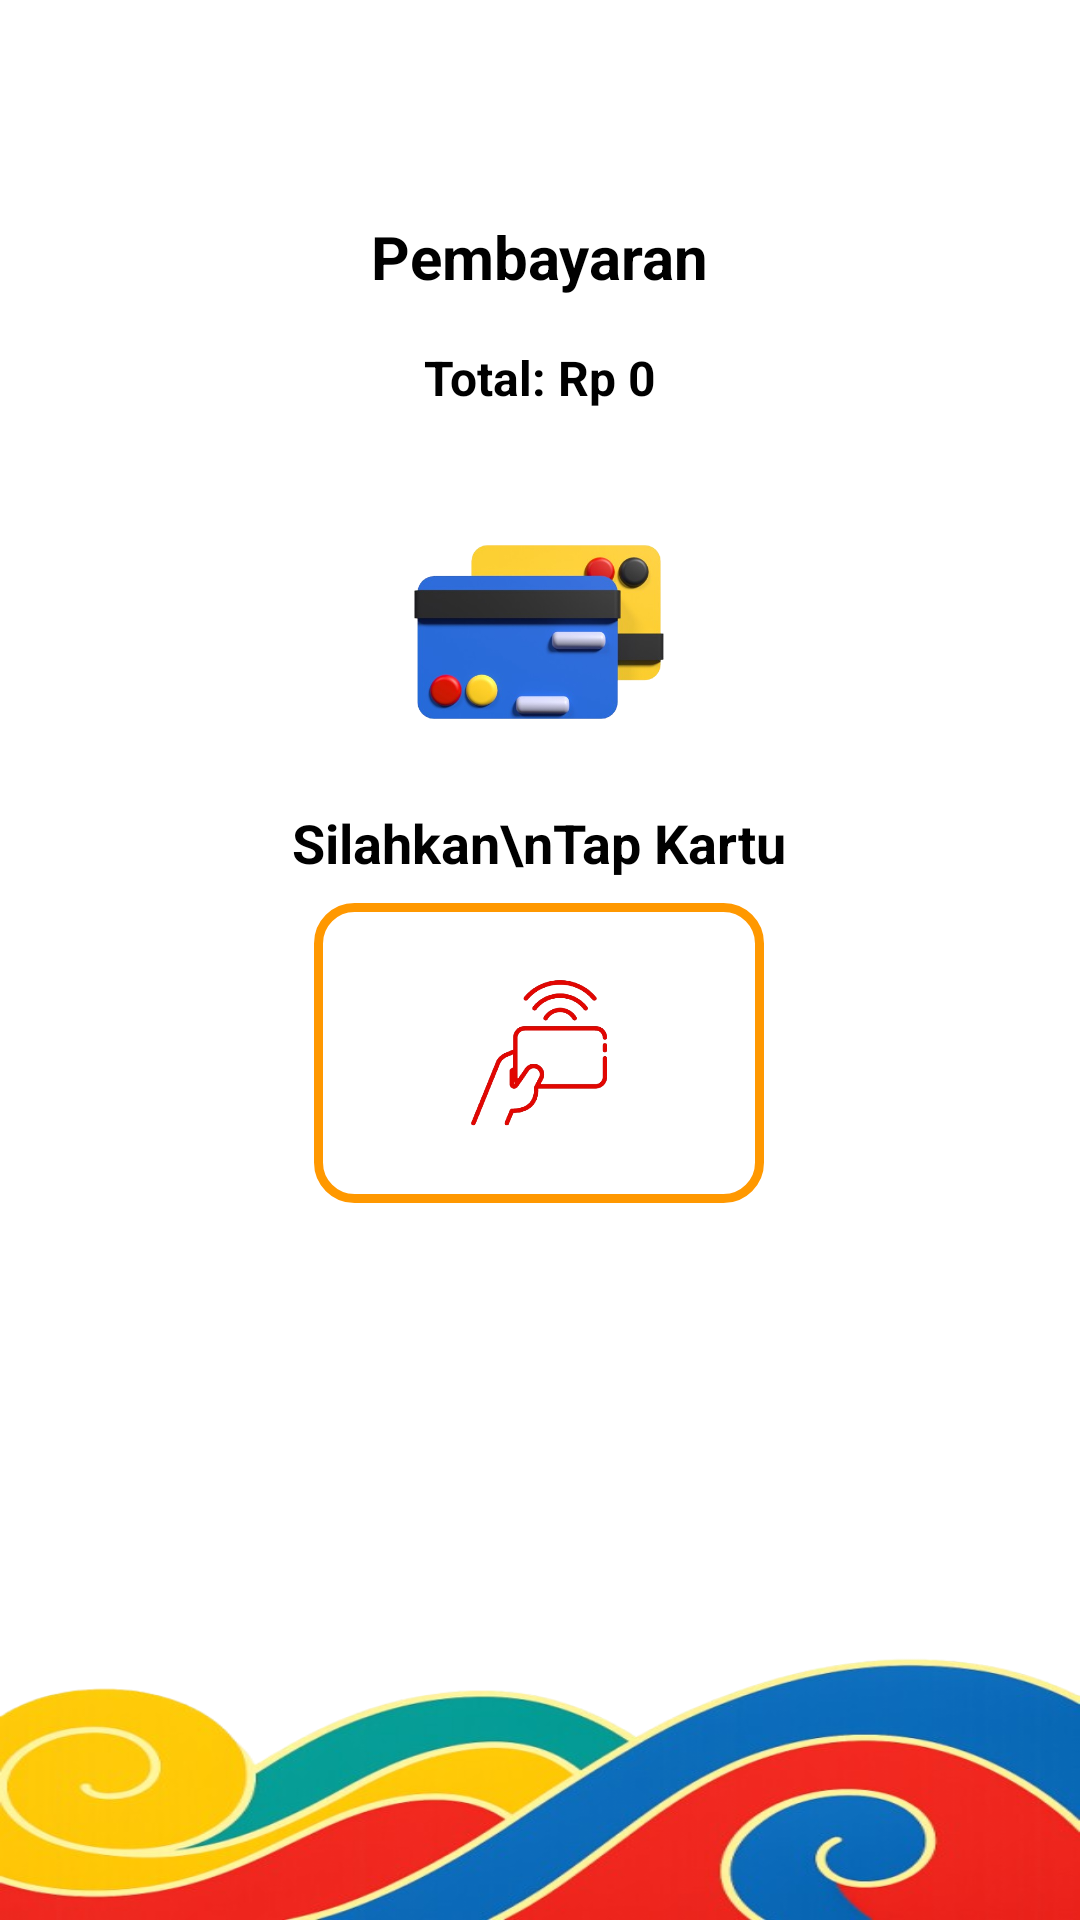

Icon bounding boxes for this 1080 × 1920 phone screenshot, format [x1=x1, y1=y1, x2=x2, y2=y2]:
NFC Icon: [x1=471, y1=980, x2=607, y2=1126]
